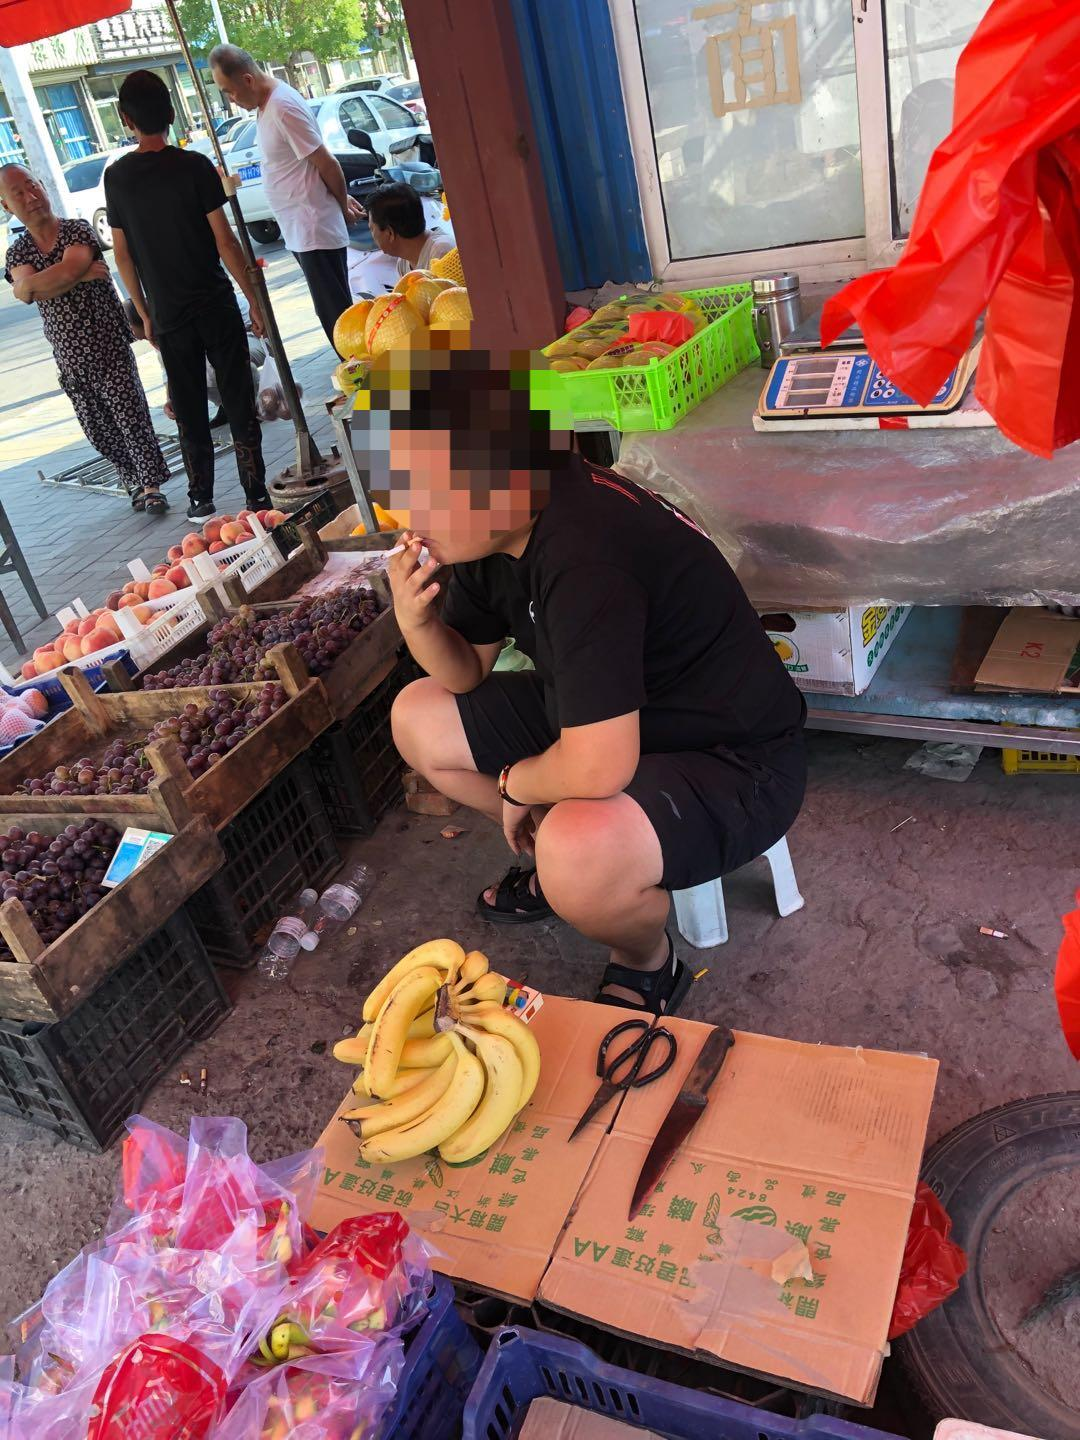smoke: (376, 536, 427, 564)
